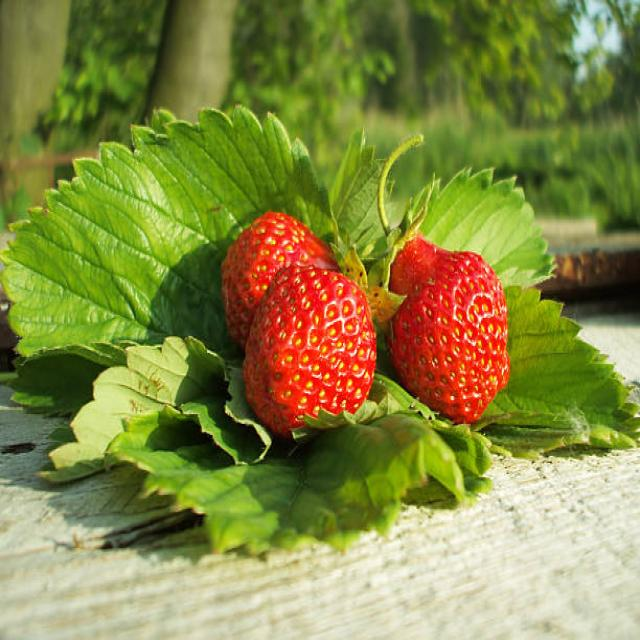Healthy Fruit: (387, 236, 510, 421), (243, 267, 378, 432), (220, 209, 337, 333)
